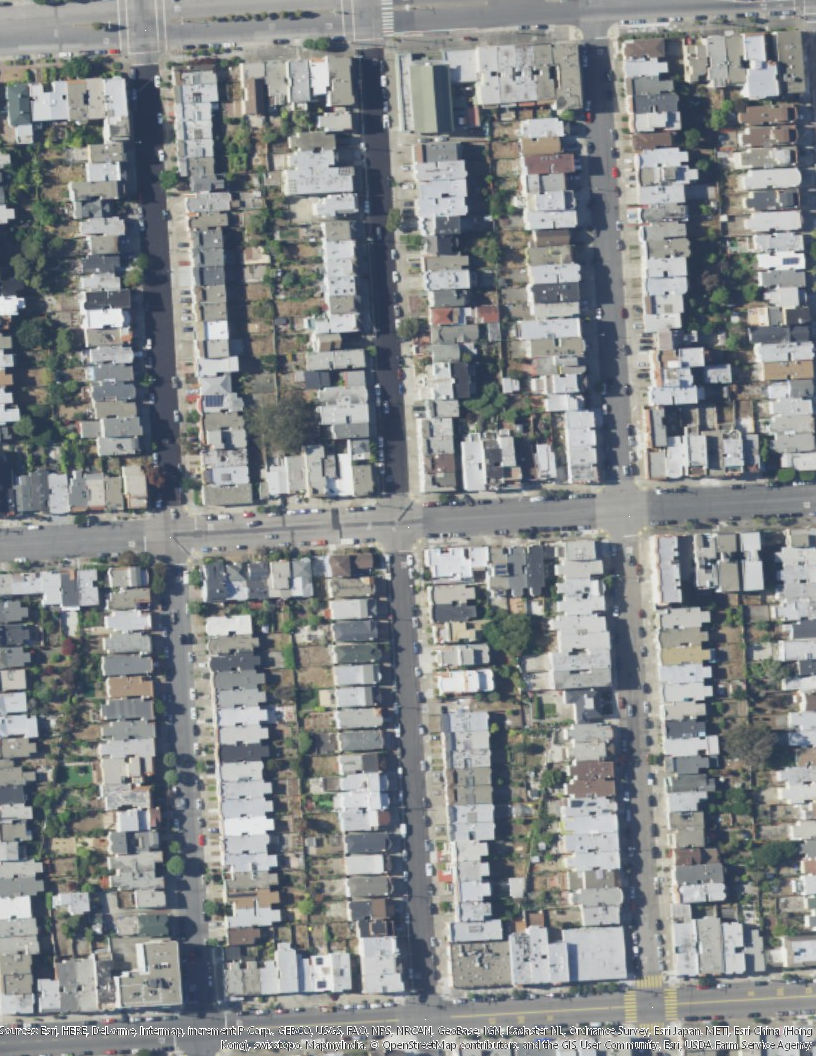zebracross: (377, 1, 397, 37), (662, 986, 678, 1021), (623, 989, 639, 1023), (636, 973, 665, 989), (638, 1020, 666, 1036)
